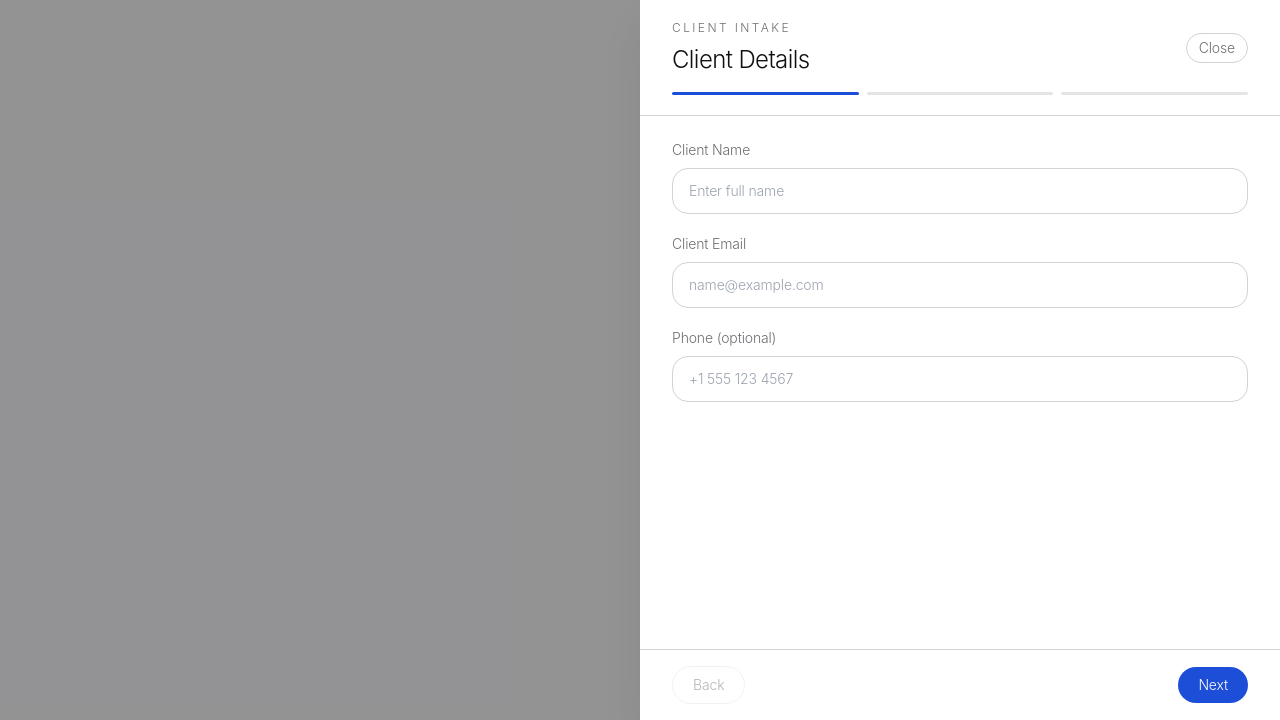
Test: CreateClientDrawer › shows required investor profile and both optional forms on step 3
Type "John Smith" into the field with placeholder "Enter full name" at (960, 191), box [672,168,1248,214]
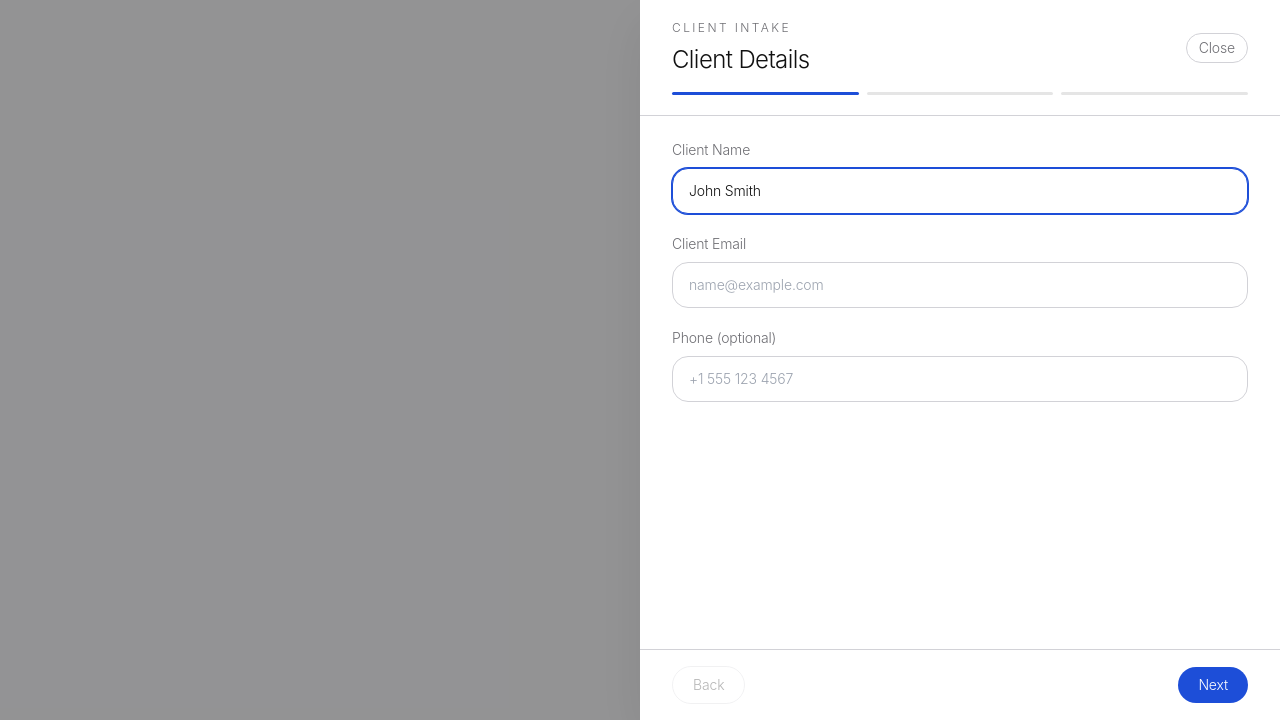
Type "john@example.com" into the field with placeholder "name@example.com" at (960, 285), box [672,262,1248,308]
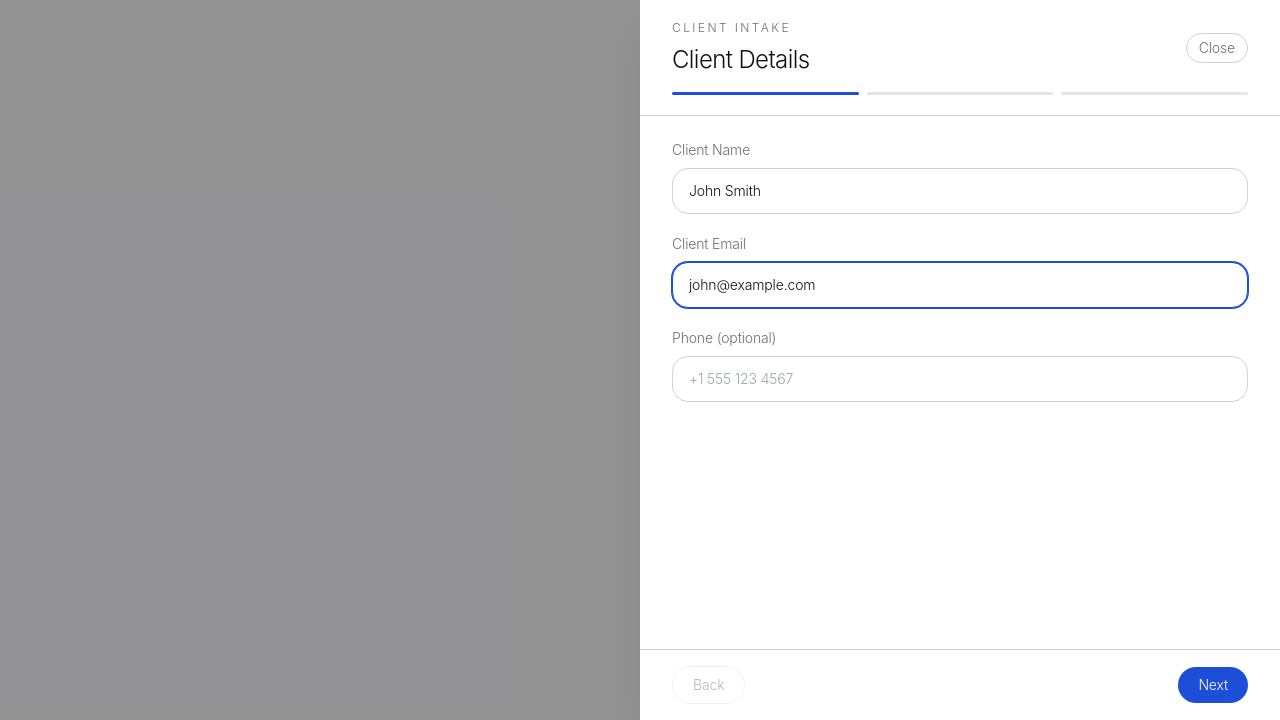
Click the button "Next" at (1213, 685), box [1178,667,1248,703]
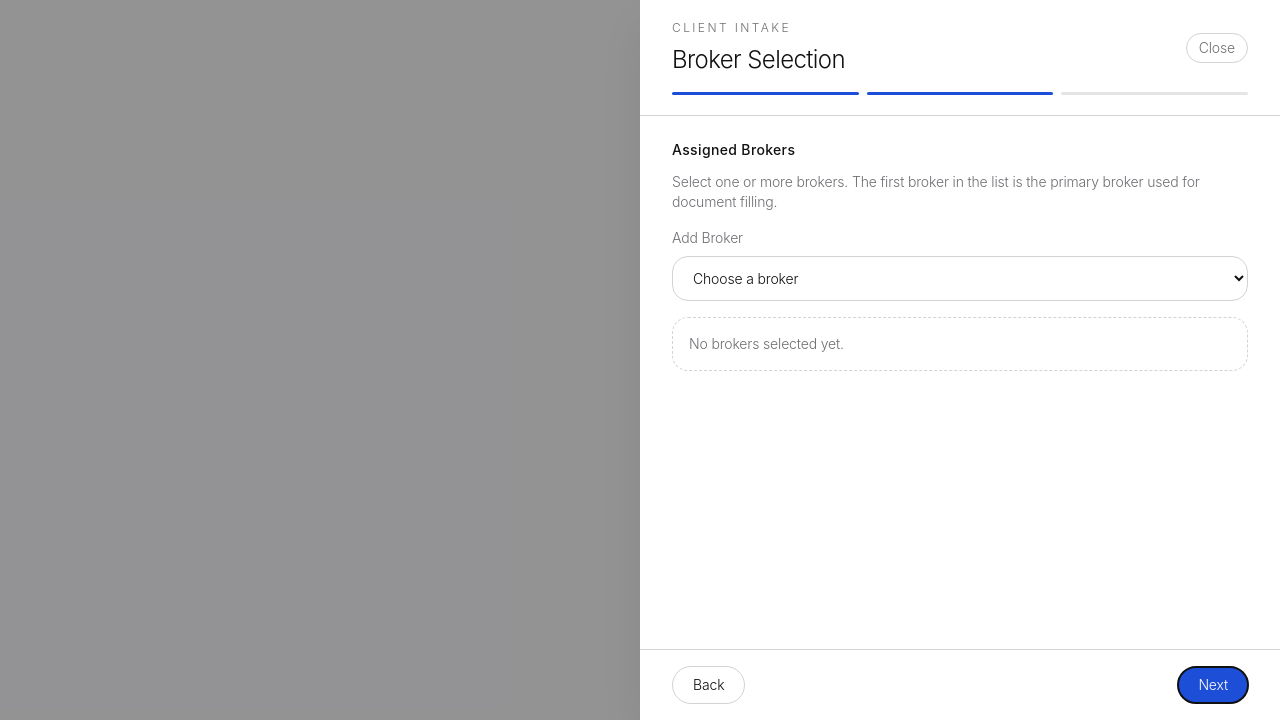
Expected: the heading "Assigned Brokers" is shown, [672,140,795,160]
Select "Advisor One · Alpha Securities (advisor@example.com)" in the dropdown labelled "Add Broker" at (960, 278), box [672,256,1248,301]
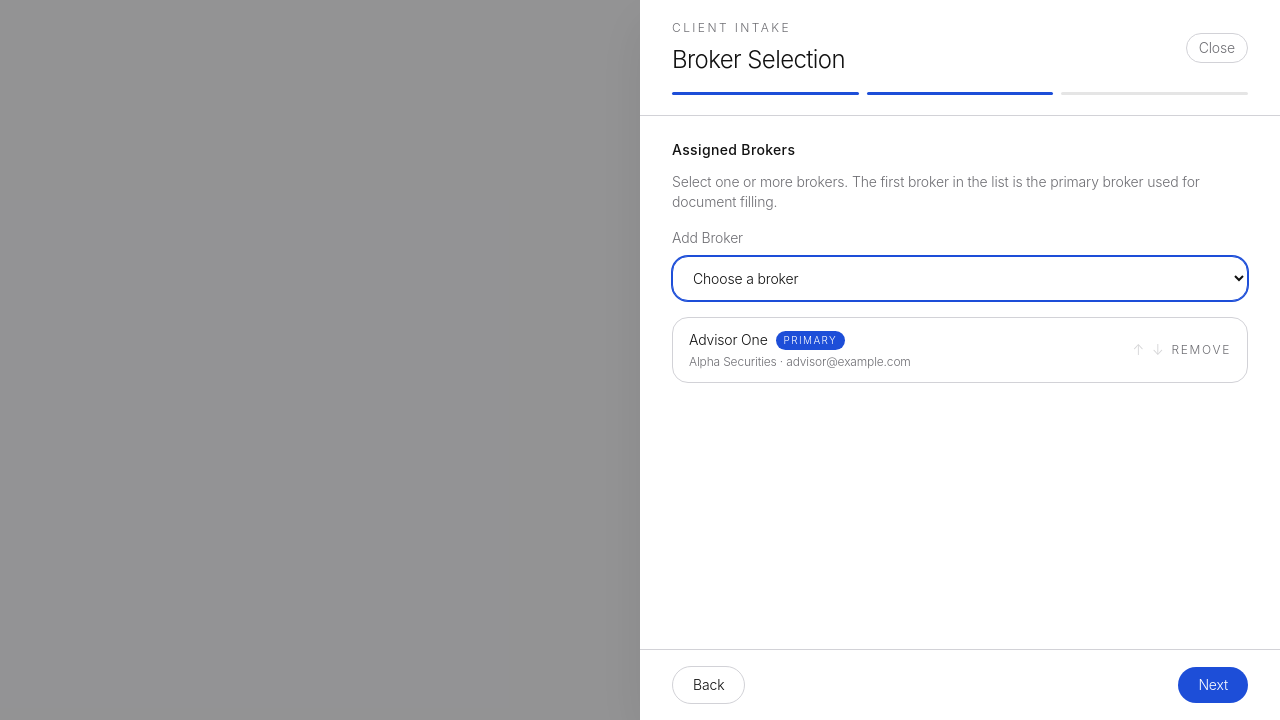
Click the button "Next" at (1213, 685), box [1178,667,1248,703]
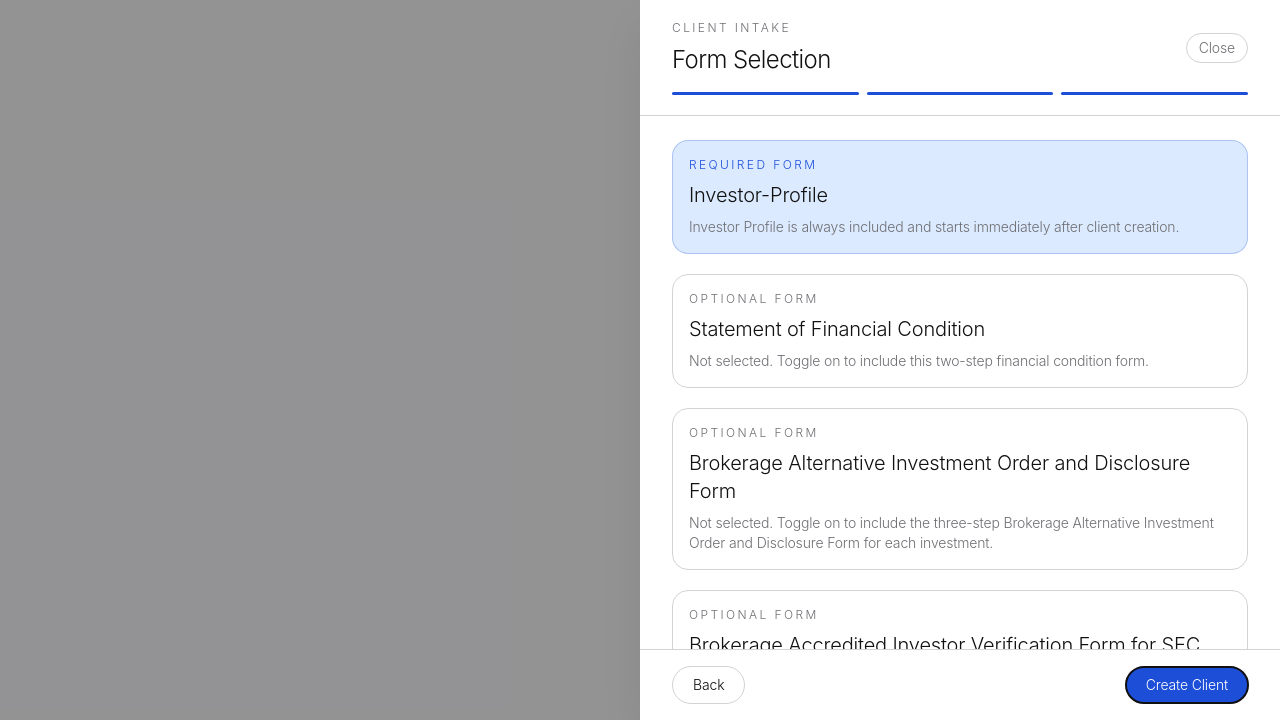
Expected: the text "Required Form" is shown, [689,157,817,172]
Expected: the text "Investor-Profile" is shown, [689,183,828,207]
Expected: the text "Statement of Financial Condition" is shown, [689,317,985,341]
